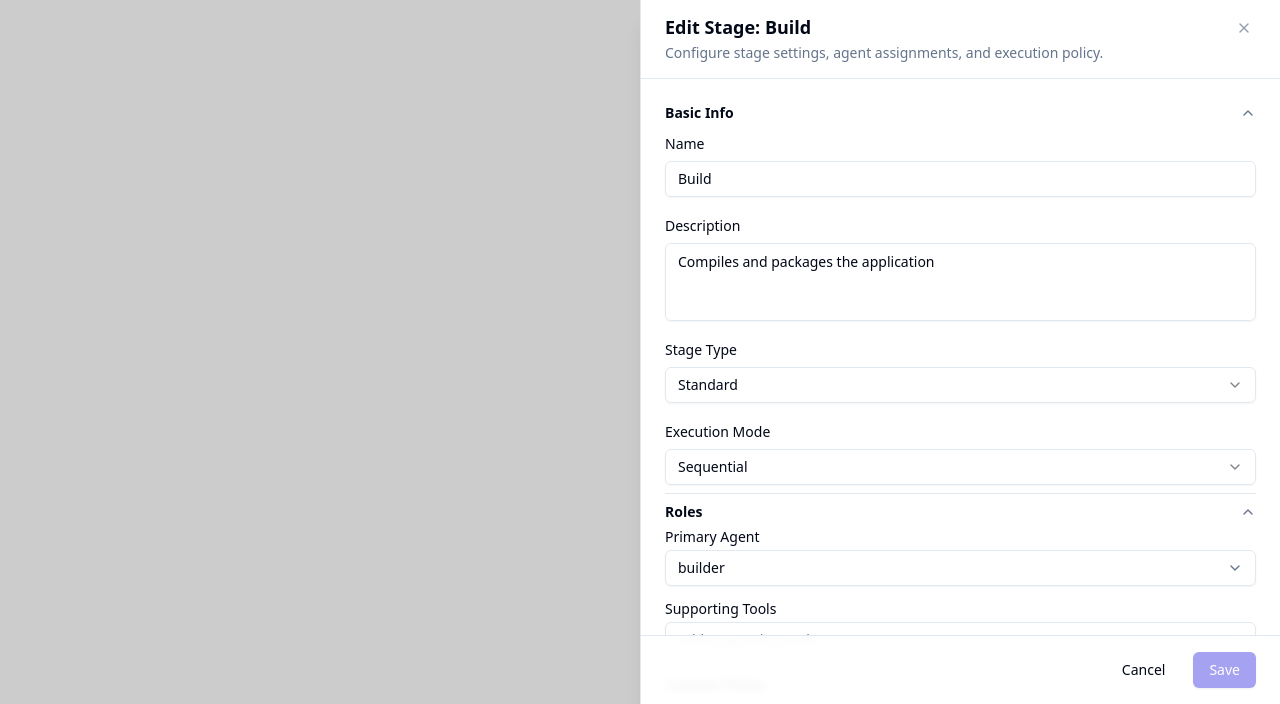
StageEditor — Save button › Save button becomes enabled after changing the name
Replace the text in the field labelled "Name" with "Updated Name" at (960, 179), box [665,161,1256,197]
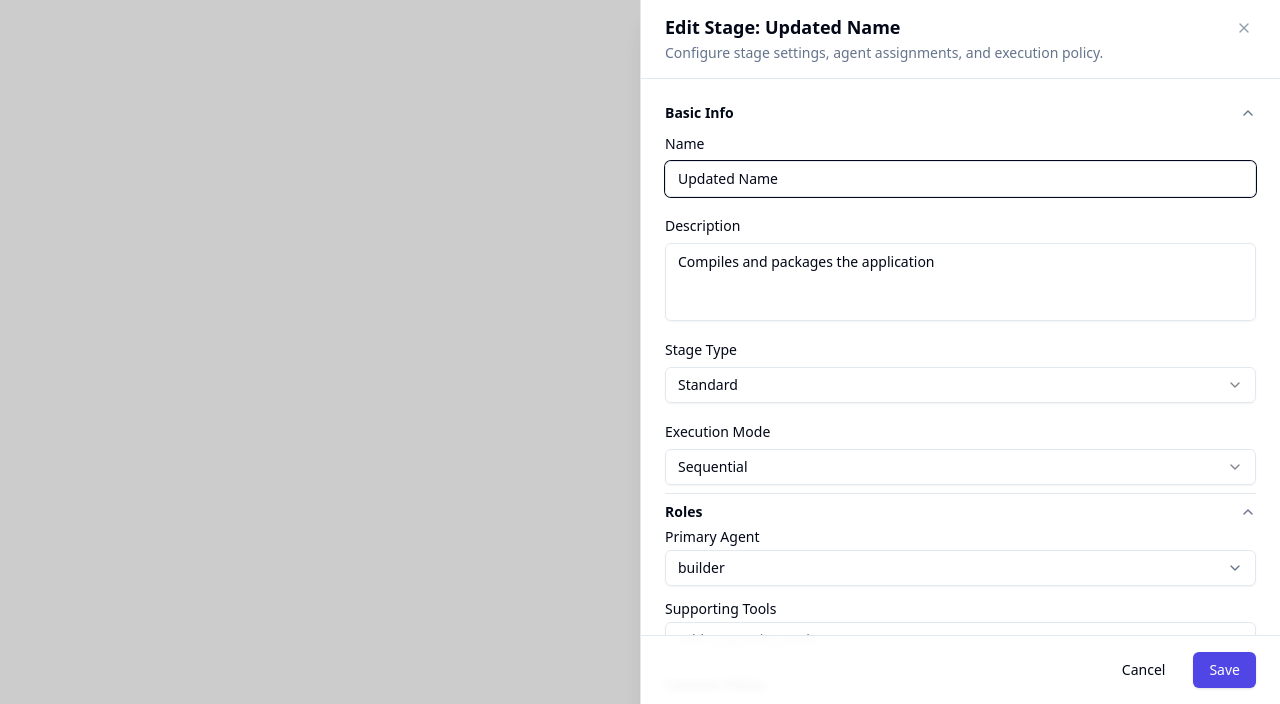
expect the button "Save" is enabled: met, box [1193,652,1256,688]
